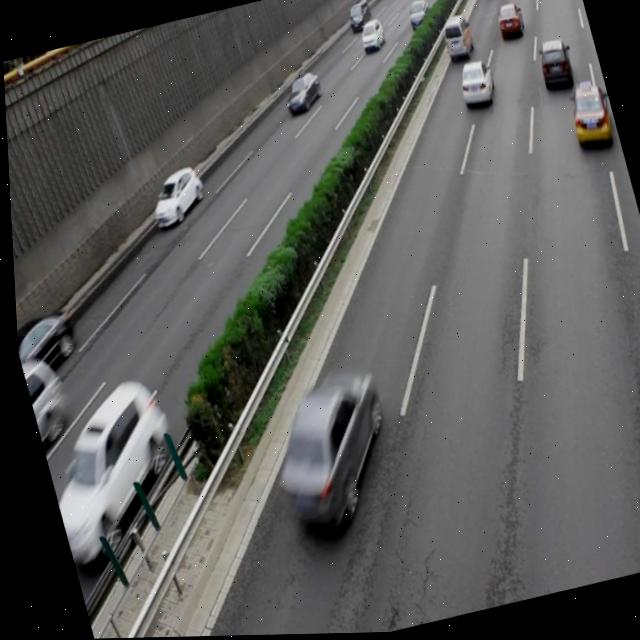car: (25, 371, 192, 560), (247, 361, 402, 535), (139, 163, 210, 233), (12, 304, 79, 377), (560, 80, 613, 152), (529, 36, 574, 96), (450, 57, 497, 112), (277, 69, 325, 119)
truck: (15, 351, 70, 447)
